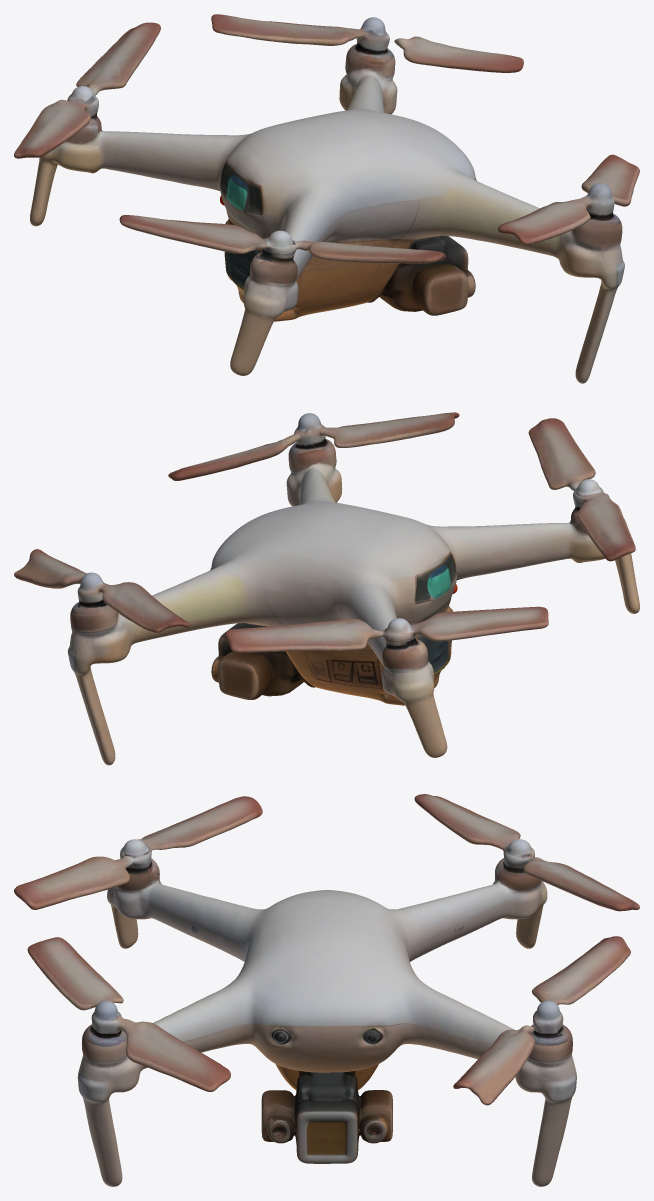
The model's file is cargo_drone.glb.
The picture shows the model from 3 angles, top to bottom: view 1: azimuth 30°, elevation 25°; view 2: azimuth 150°, elevation 25°; view 3: azimuth 270°, elevation 25°; orthographic projection. The views are drawn at different scales.
Visible parts, largest first — view 1: tripo_node_415eaa7a-99b6-4b4f-8317-7a5ae7421fbc; view 2: tripo_node_415eaa7a-99b6-4b4f-8317-7a5ae7421fbc; view 3: tripo_node_415eaa7a-99b6-4b4f-8317-7a5ae7421fbc.
Boxes of the visible parts, x1=… form: tripo_node_415eaa7a-99b6-4b4f-8317-7a5ae7421fbc: x1=14, y1=14, x2=639, y2=383; tripo_node_415eaa7a-99b6-4b4f-8317-7a5ae7421fbc: x1=14, y1=412, x2=639, y2=765; tripo_node_415eaa7a-99b6-4b4f-8317-7a5ae7421fbc: x1=14, y1=794, x2=639, y2=1186.
Bounding box in the file's own units: 0.901 × 0.3476 × 0.9475.
1 material, 1 textured.
